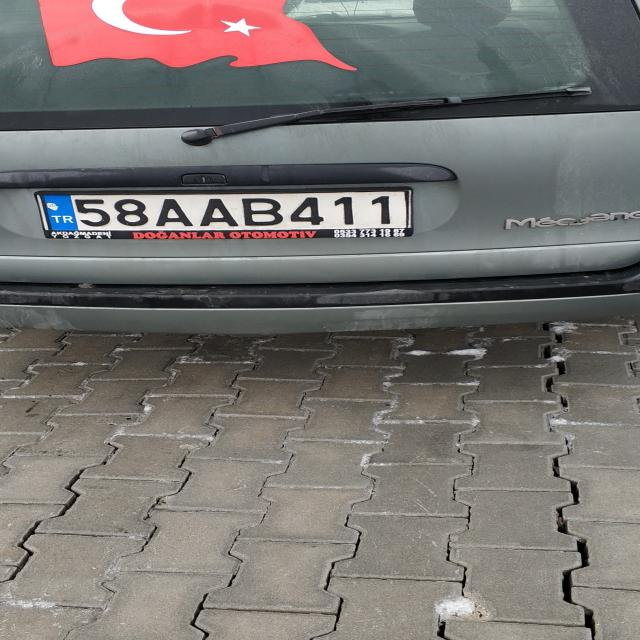plate: (37, 191, 410, 231)
